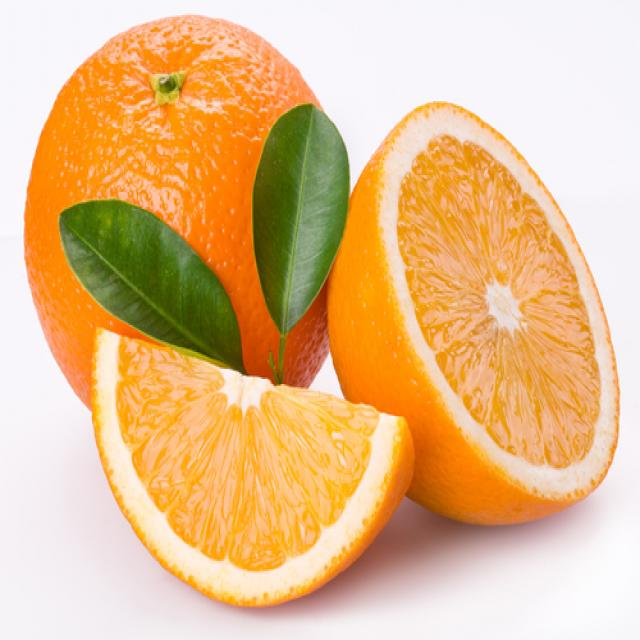orange: (59, 110, 418, 614), (19, 15, 346, 470), (328, 98, 624, 539)
